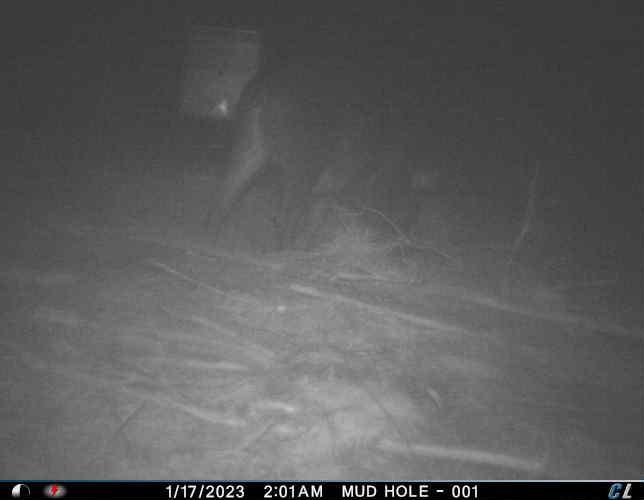Hog: (197, 42, 474, 249)
